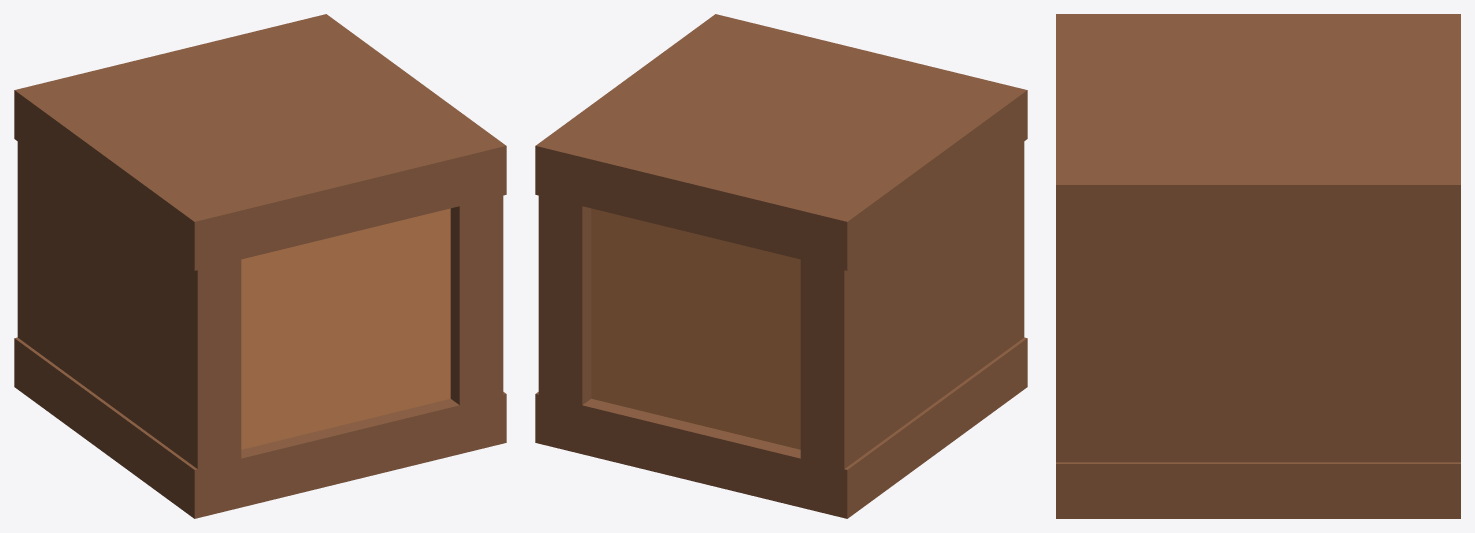
The model's file is crate.glb.
3 views of the same model, side by side, from view 1: azimuth 30°, elevation 25°; view 2: azimuth 150°, elevation 25°; view 3: azimuth 270°, elevation 25° (orthographic). The views are drawn at different scales.
Visible parts, largest first — view 1: Part2, Part3, Part0, Part1, Part4; view 2: Part2, Part3, Part0, Part1, Part4; view 3: Part2, Part4, Part1.
Boxes of the visible parts, x1,y1,x2,y2 form: Part2: (14,14,506,270); Part3: (17,142,241,486); Part0: (241,208,450,449); Part1: (14,337,506,518); Part4: (450,178,503,422); Part2: (535,14,1027,270); Part3: (800,142,1024,482); Part0: (591,208,800,449); Part1: (535,337,1027,518); Part4: (538,177,591,422); Part2: (1056,14,1460,239); Part4: (1056,240,1460,462); Part1: (1056,462,1460,518).
Size of the model in its own units: 1 by 0.91 by 1.
